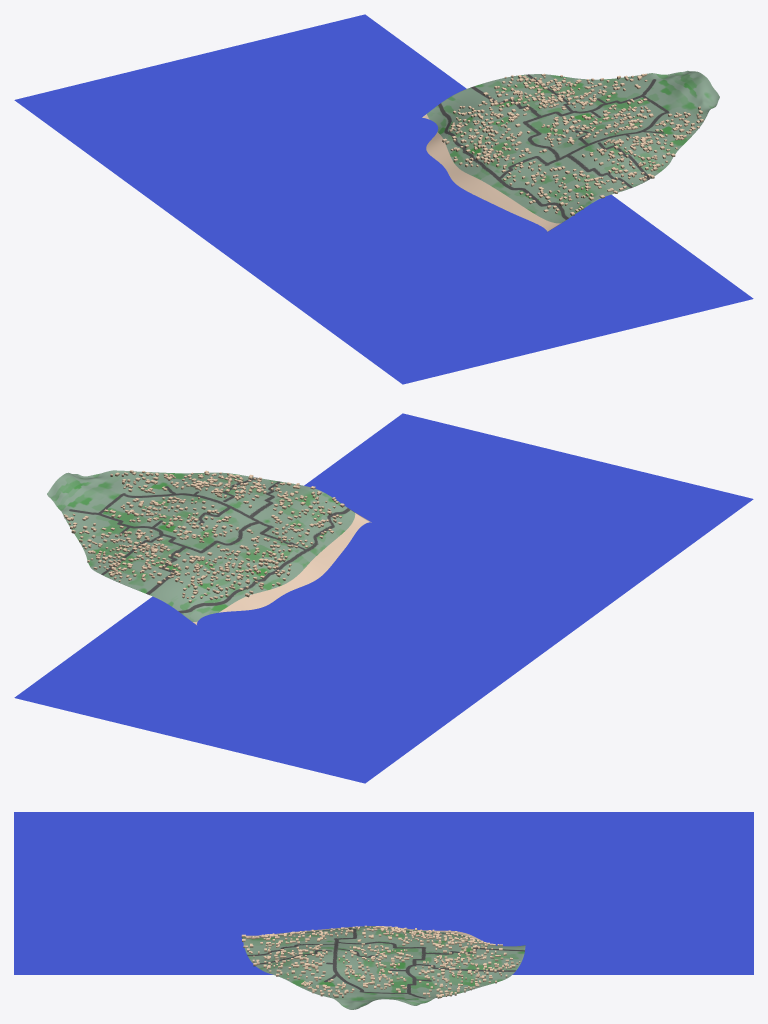
File: city_childhoodv2.fbx
The picture shows the model from 3 angles, top to bottom: view 1: azimuth 30°, elevation 25°; view 2: azimuth 150°, elevation 25°; view 3: azimuth 270°, elevation 25°; orthographic projection. The views are drawn at different scales.
Visible parts, largest first — view 1: Plane.001, Plane.002; view 2: Plane.001, Plane.002; view 3: Plane.001, Plane.002.
Boxes of the visible parts, x1,y1,x2,y2 form: Plane.001: [14, 14, 753, 384]; Plane.002: [422, 70, 719, 231]; Plane.001: [14, 413, 753, 783]; Plane.002: [47, 470, 371, 624]; Plane.001: [14, 812, 753, 974]; Plane.002: [242, 926, 525, 1009].
Bounding box in the file's own units: 865 × 95.39 × 1173.
